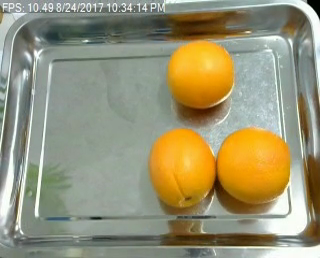Orange: (217, 126, 290, 203), (150, 127, 216, 207), (166, 39, 235, 108)
